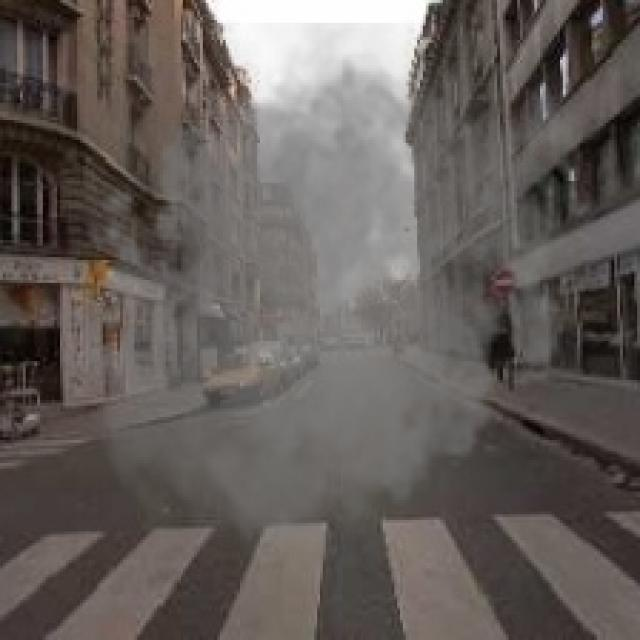Smoke: (75, 23, 594, 583)
